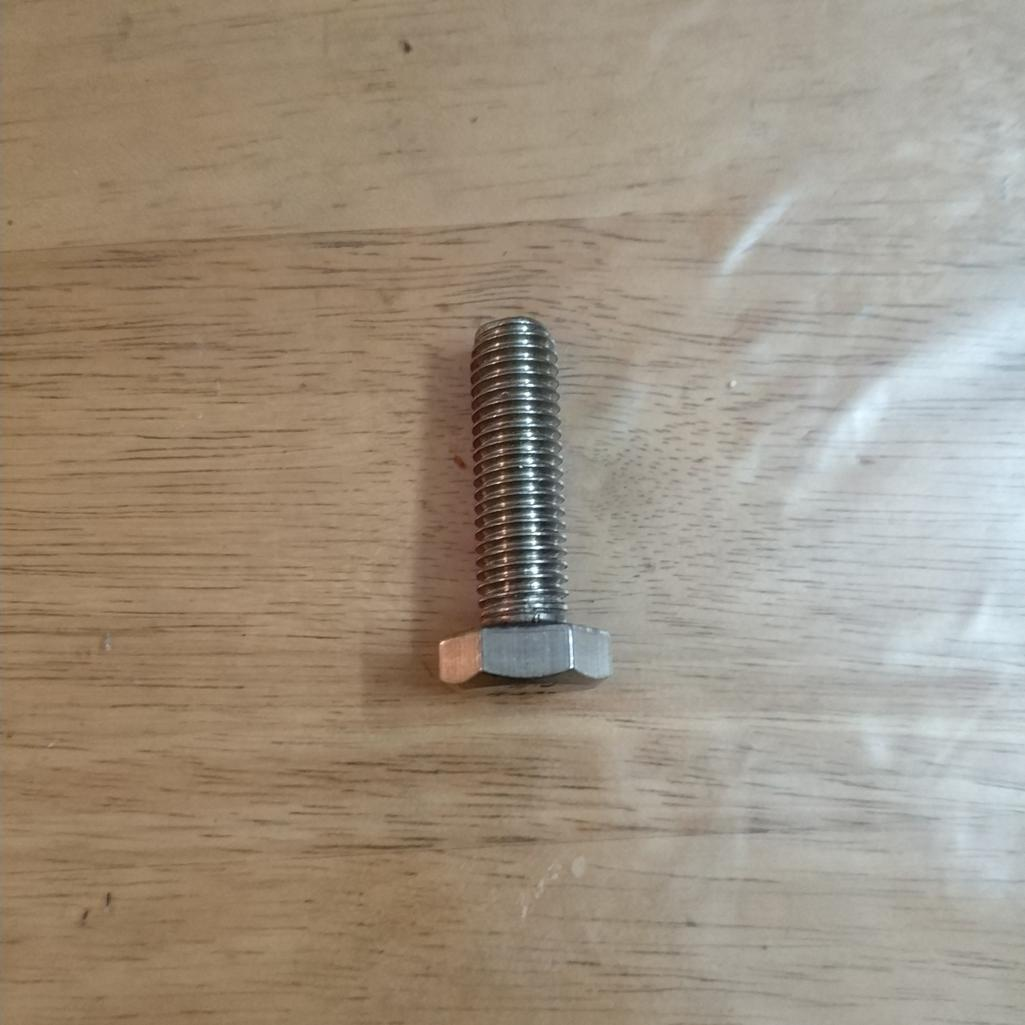screwtype2silver: (382, 288, 660, 702)
